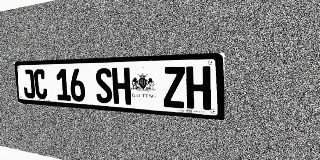1: (55, 69, 71, 101)
6: (69, 68, 86, 102)
C: (33, 69, 48, 99)
H: (186, 66, 211, 110), (112, 68, 131, 105)
J: (22, 69, 36, 99)
S: (95, 68, 113, 104)
Z: (162, 67, 186, 108)
